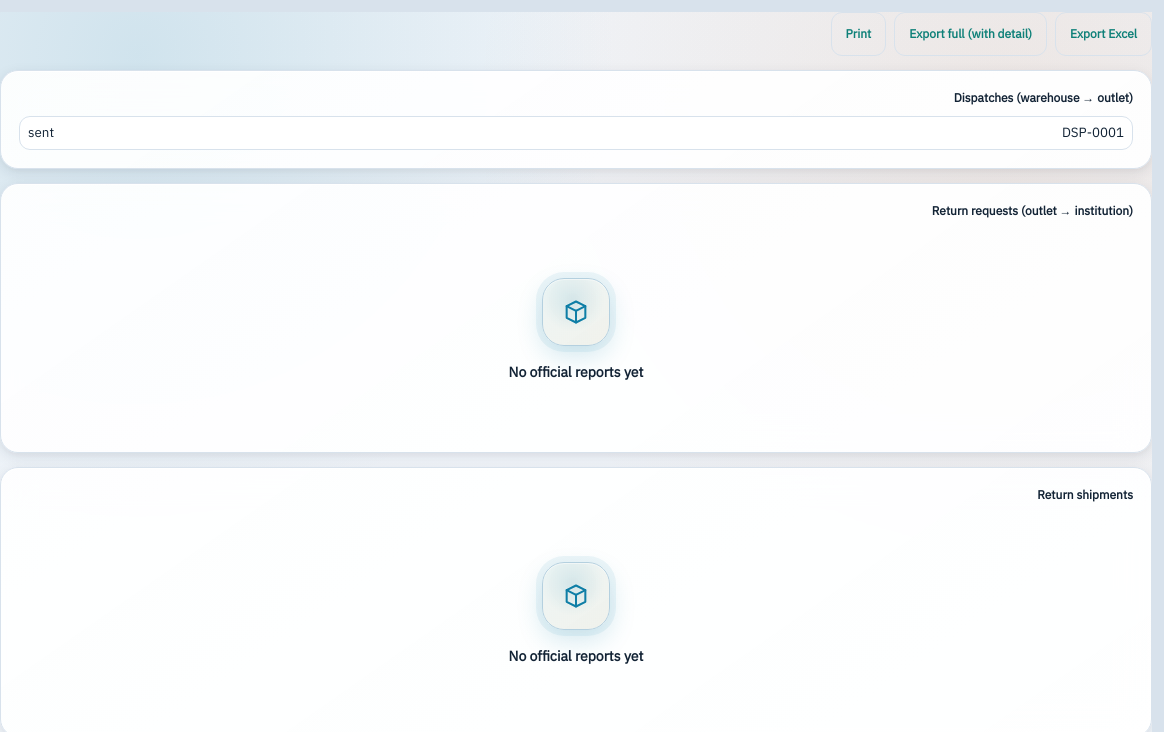
CustodyChainTab — loading to loaded transition (runtime, not source-scan) › 139: a movement-row trace event shows legal fields while technical UUIDs stay internal
Click the text "DSP-0001": (1093, 133) [1062, 123, 1124, 143]
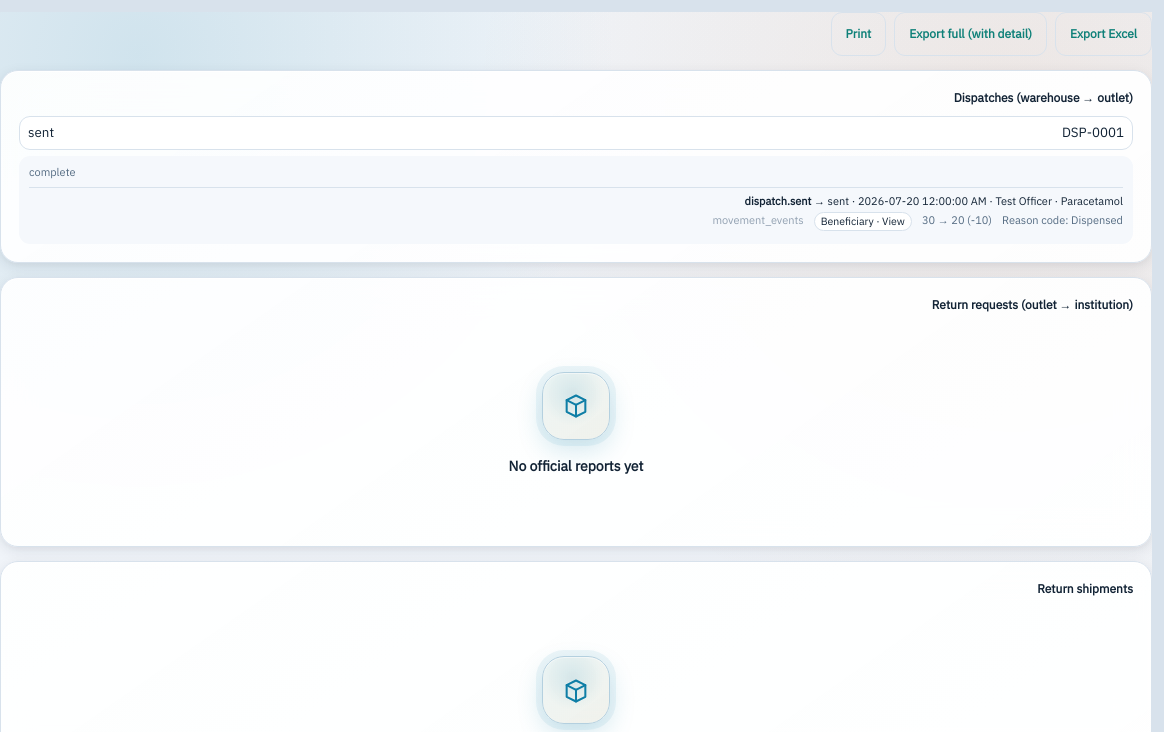
Now the element with test id "custody-trace-event" shows "Dispensed", box [1071, 212, 1123, 229]
Now the element with test id "custody-trace-event" shows "(-10)", box [964, 212, 992, 229]
Now the element with test id "custody-trace-event" shows "movement_events", box [712, 212, 804, 229]
